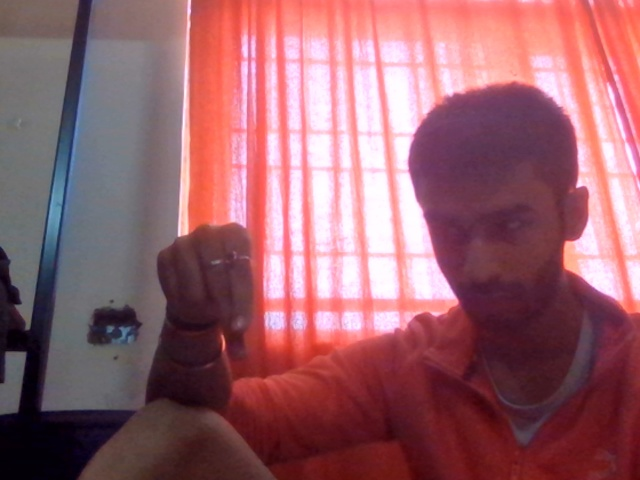P: (133, 197, 293, 401)
